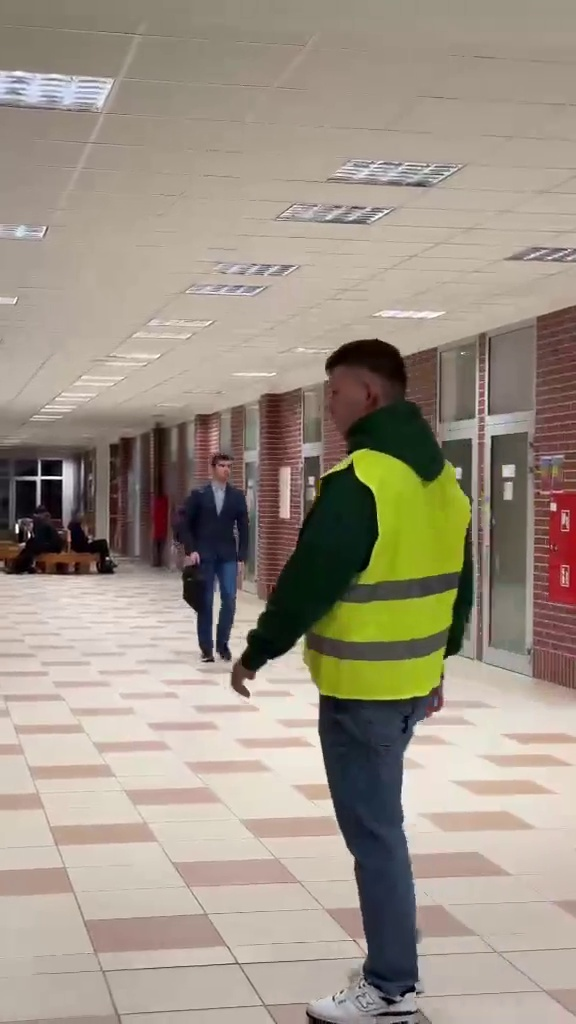no vest: (171, 446, 256, 664)
vest: (265, 340, 471, 1021)
